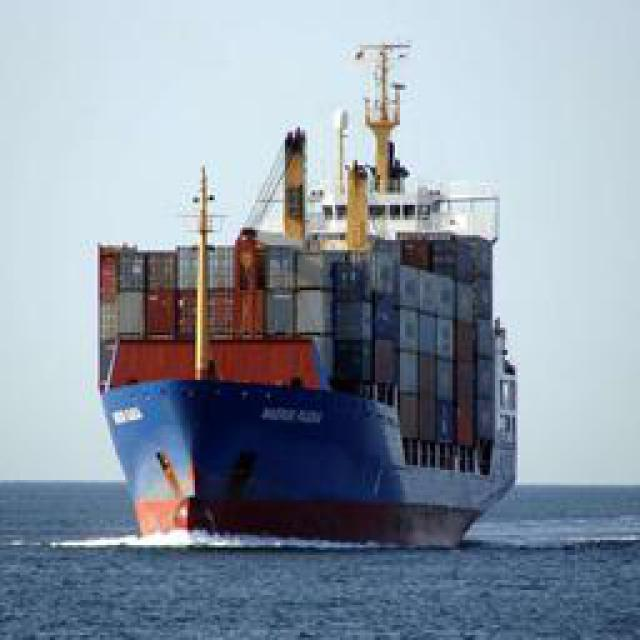Ship: (89, 42, 519, 552)
